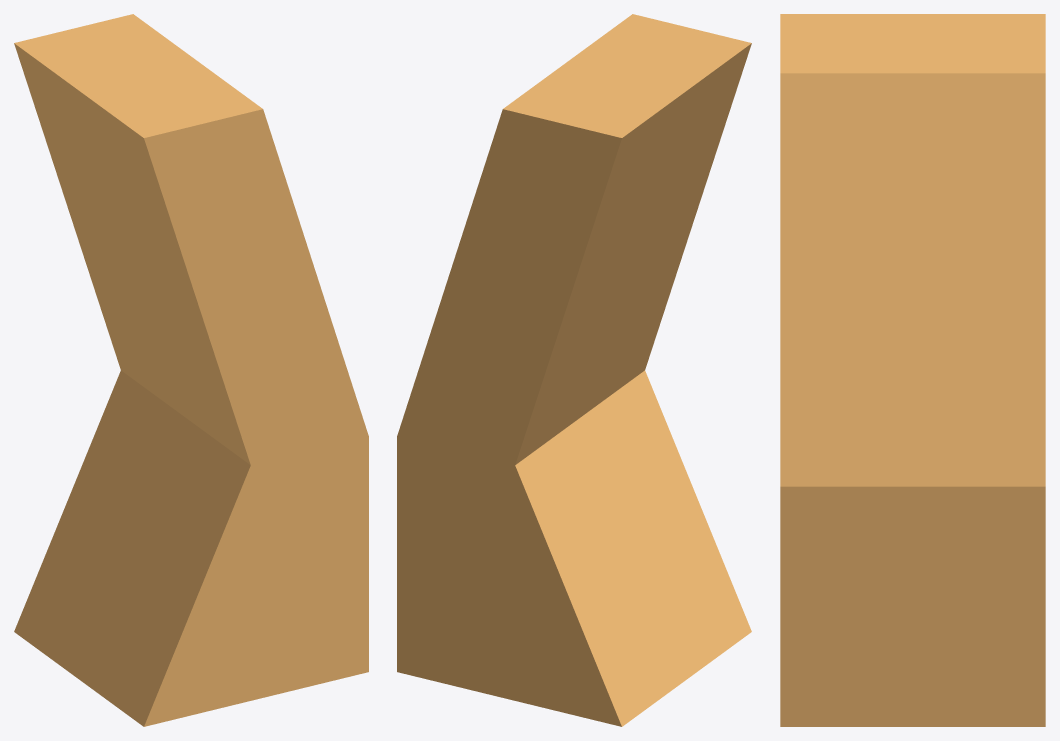
Rendered from fruit_c.gltf.
3 views of the same model, side by side, from view 1: azimuth 30°, elevation 25°; view 2: azimuth 150°, elevation 25°; view 3: azimuth 270°, elevation 25° (orthographic). The views are drawn at different scales.
Parts seen in each view (by area): view 1: fruit_c; view 2: fruit_c; view 3: fruit_c.
Boxes of the visible parts, x1,y1,x2,y2 form: fruit_c: (14, 14, 368, 726); fruit_c: (397, 14, 751, 726); fruit_c: (780, 14, 1045, 726).
Bounding box in the file's own units: 0.2 × 0.5 × 0.2.
Materials: 1 (1 with a texture image).
